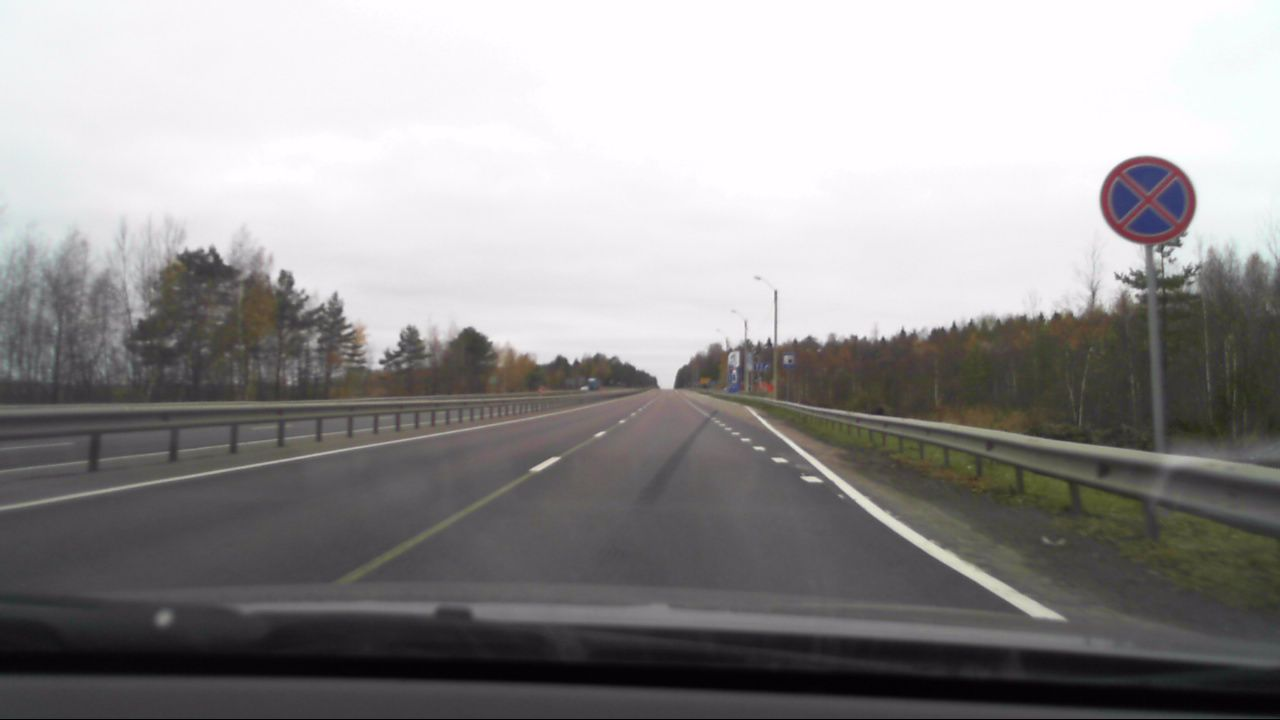No Parking: (1100, 152, 1199, 250)
